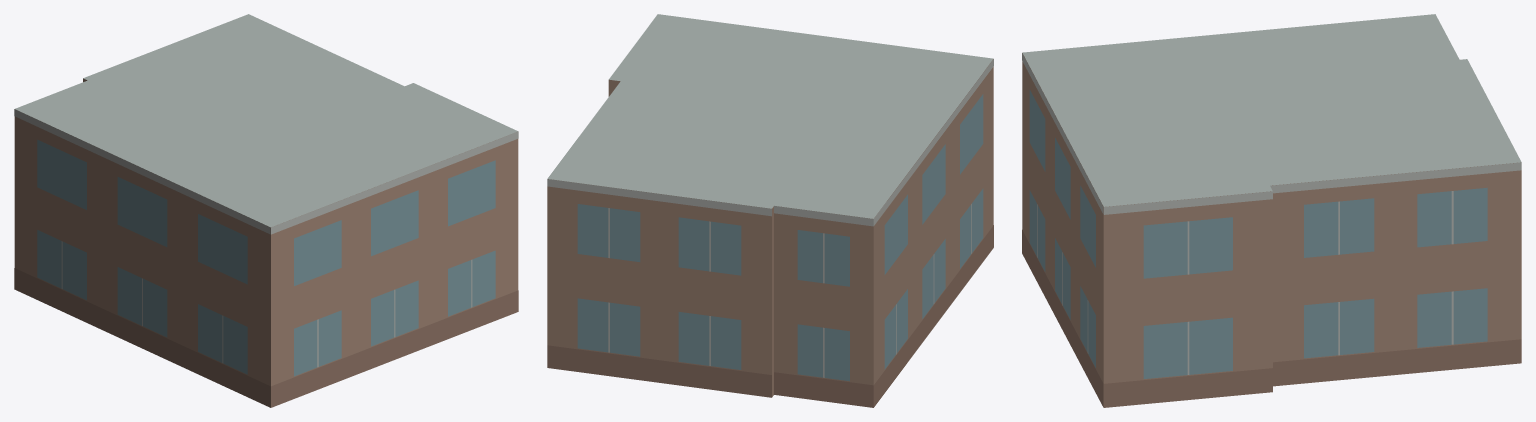
File: survey-upis-32707291.glb
3 views of the same model, side by side, from view 1: azimuth 30°, elevation 25°; view 2: azimuth 150°, elevation 25°; view 3: azimuth 270°, elevation 25° (orthographic). The views are drawn at different scales.
Visible parts, largest first — view 1: survey-upis-32707291.tmp; view 2: survey-upis-32707291.tmp; view 3: survey-upis-32707291.tmp.
Boxes of the visible parts, x1,y1,x2,y2 form: survey-upis-32707291.tmp: [14, 14, 518, 407]; survey-upis-32707291.tmp: [547, 14, 993, 407]; survey-upis-32707291.tmp: [1022, 14, 1521, 407].
Bounding box in the file's own units: 12.57 × 6.1 × 13.75.
